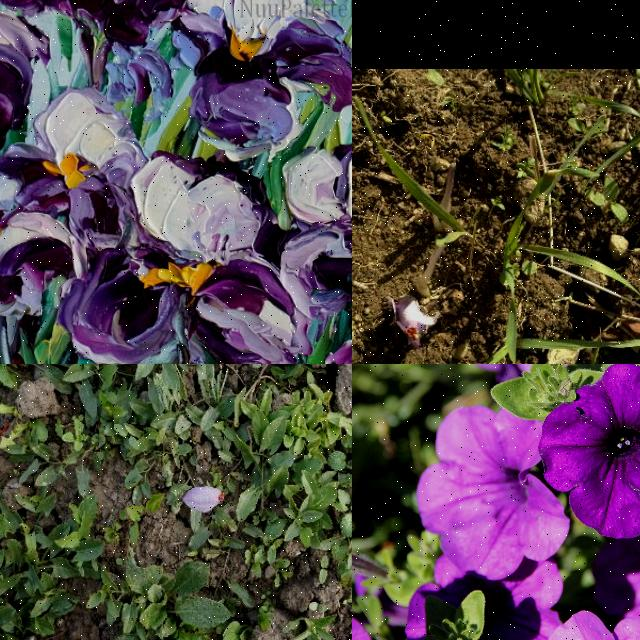flower: (387, 296, 441, 344), (181, 486, 225, 514)
